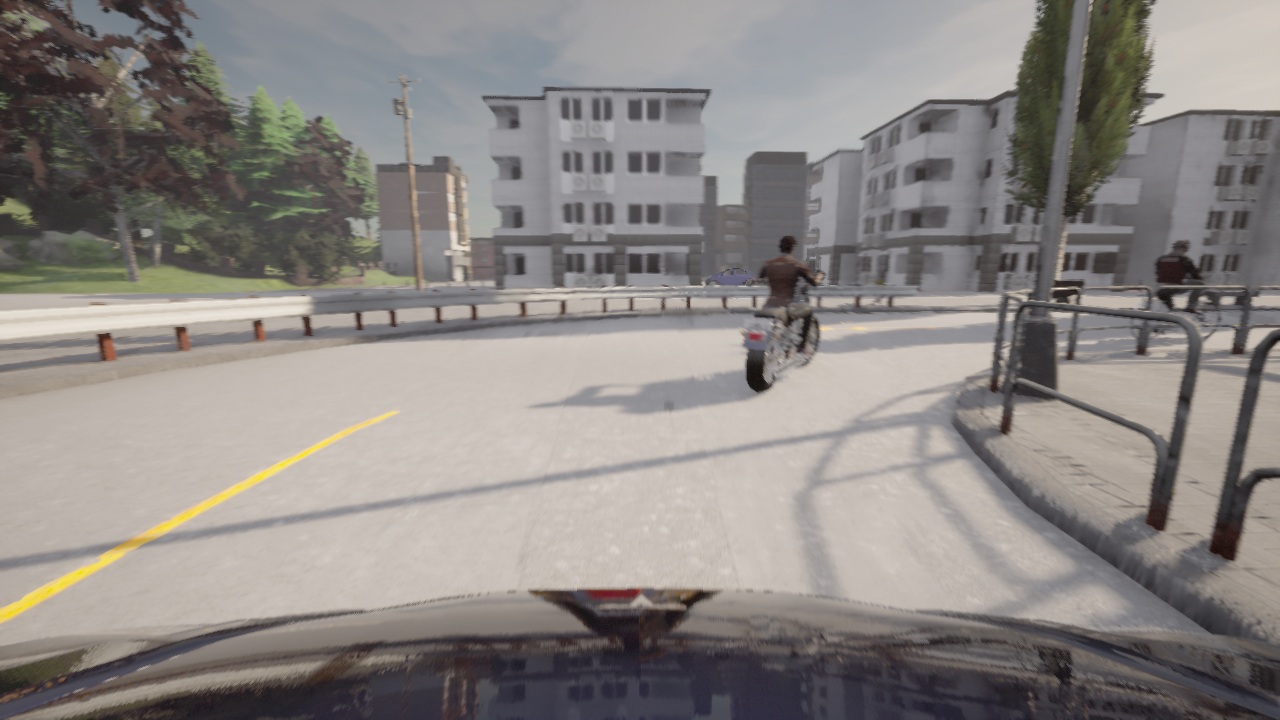cyclist: (0, 588, 1279, 719), (739, 270, 824, 393), (1130, 277, 1220, 339), (705, 268, 752, 285), (747, 273, 767, 285), (748, 278, 766, 280)
pedestrian: (871, 273, 886, 304)
